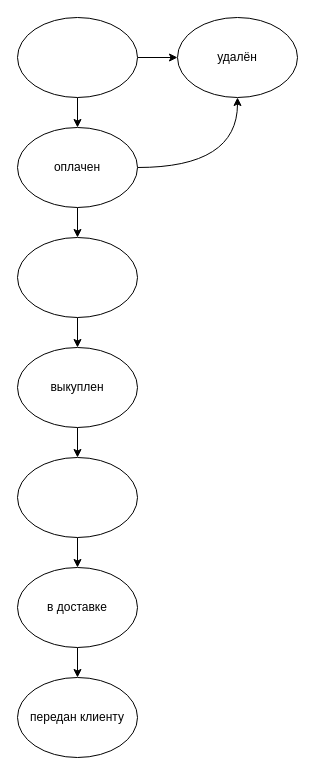
This 315x775 diagram has some shape labels left out. The shapes that lost their labels are listed below. From the top down, each one's centre as x and y in pixels, then its label:
pixel 77 57: новый
pixel 77 277: подтверждён
pixel 77 497: отправлен
